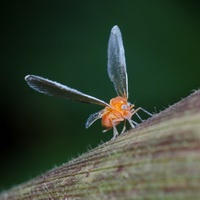insect: (25, 25, 153, 137)
